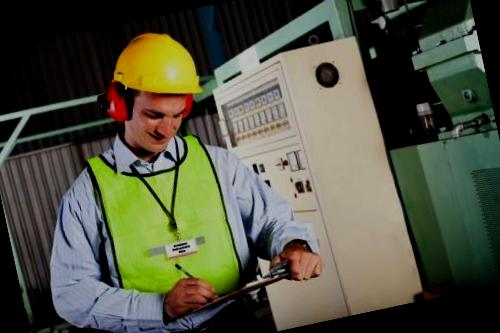helmet: (106, 22, 206, 112)
person: (26, 8, 314, 333)
